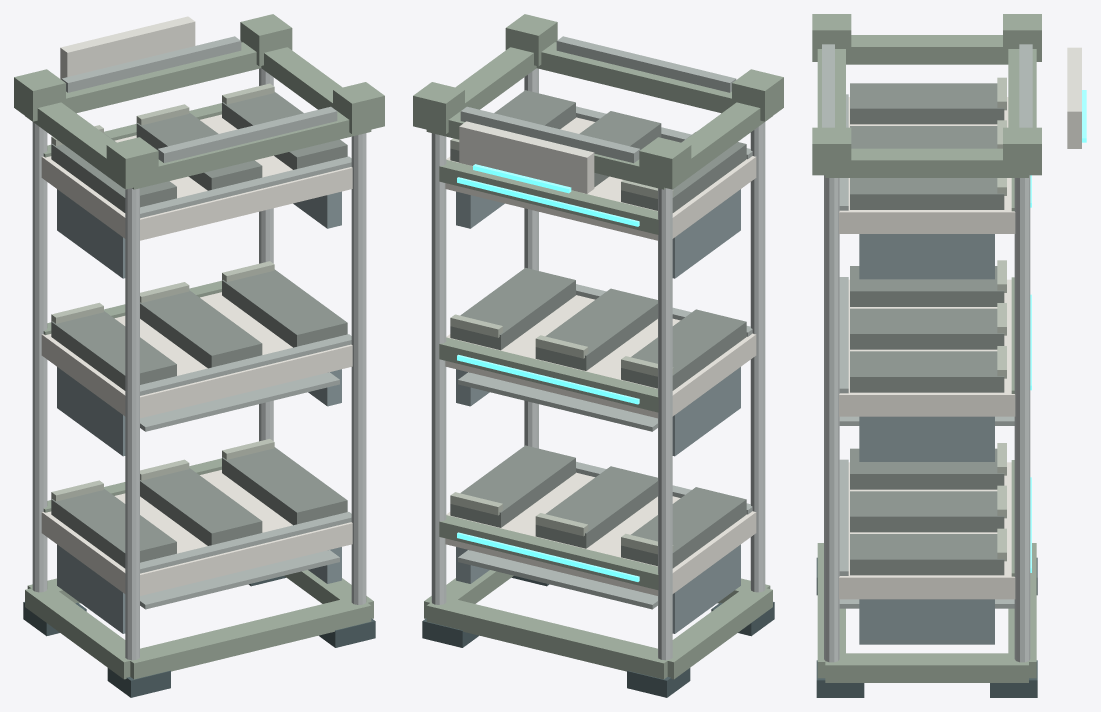
The model's file is s7-e0e1-rs04-nursery-single-bay.glb.
3 renders of one model, left to right at view 1: azimuth 30°, elevation 25°; view 2: azimuth 150°, elevation 25°; view 3: azimuth 270°, elevation 25°, orthographic. The views are drawn at different scales.
Parts seen in each view (by area): view 1: tray-load-deck-016, tray-load-deck-022, tray-load-deck-028, chrome-vertical-post-006, rack-long-rail-009, chrome-vertical-post-002, chrome-vertical-post-000, empty-nursery-tray-046, empty-nursery-tray-052, empty-nursery-tray-044, empty-nursery-tray-050, empty-nursery-tray-042 (+40 smaller); view 2: rack-long-rail-008, chrome-vertical-post-004, chrome-vertical-post-000, chrome-vertical-post-002, tray-load-deck-022, tray-load-deck-016, rack-identity-panel-062, empty-nursery-tray-046, empty-nursery-tray-052, empty-nursery-tray-044, empty-nursery-tray-050, tray-load-deck-028 (+40 smaller); view 3: chrome-vertical-post-004, chrome-vertical-post-006, empty-nursery-tray-052, empty-nursery-tray-046, empty-nursery-tray-044, empty-nursery-tray-050, empty-nursery-tray-054, shelf-support-021, shelf-support-027, shelf-support-033, tray-load-deck-016, tray-load-deck-022 (+26 smaller).
Part boxes in pixels (x1,y1,x2,y2): tray-load-deck-016: (41,470,352,595); tray-load-deck-022: (41,292,352,418); tray-load-deck-028: (41,114,352,240); chrome-vertical-post-006: (351,133,366,604); rack-long-rail-009: (120,597,371,679); chrome-vertical-post-002: (125,188,139,660); chrome-vertical-post-000: (32,122,47,592); empty-nursery-tray-046: (222,447,347,525); empty-nursery-tray-052: (222,269,347,347); empty-nursery-tray-044: (140,468,262,545); empty-nursery-tray-050: (140,290,262,368); empty-nursery-tray-042: (51,489,176,568); rack-long-rail-008: (426,597,677,679); chrome-vertical-post-004: (431,133,446,604); chrome-vertical-post-000: (658,188,672,660); chrome-vertical-post-002: (750,122,765,592); tray-load-deck-022: (445,295,756,418); tray-load-deck-016: (445,472,756,595); rack-identity-panel-062: (459,121,594,193); empty-nursery-tray-046: (450,445,575,527); empty-nursery-tray-052: (450,268,575,350); empty-nursery-tray-044: (535,466,657,548); empty-nursery-tray-050: (535,288,657,370); tray-load-deck-028: (445,117,756,240); chrome-vertical-post-004: (1014,175,1030,662); chrome-vertical-post-006: (824,175,839,662); empty-nursery-tray-052: (850,351,1004,392); empty-nursery-tray-046: (850,534,1004,575); empty-nursery-tray-044: (850,491,1004,532); empty-nursery-tray-050: (850,308,1004,349); empty-nursery-tray-054: (850,83,1004,124); shelf-support-021: (859,599,994,644); shelf-support-027: (859,416,994,461); shelf-support-033: (859,234,994,279); tray-load-deck-016: (839,462,1015,599); tray-load-deck-022: (839,279,1015,416).
Size of the model in its own units: 0.71 by 1.42 by 0.633.
